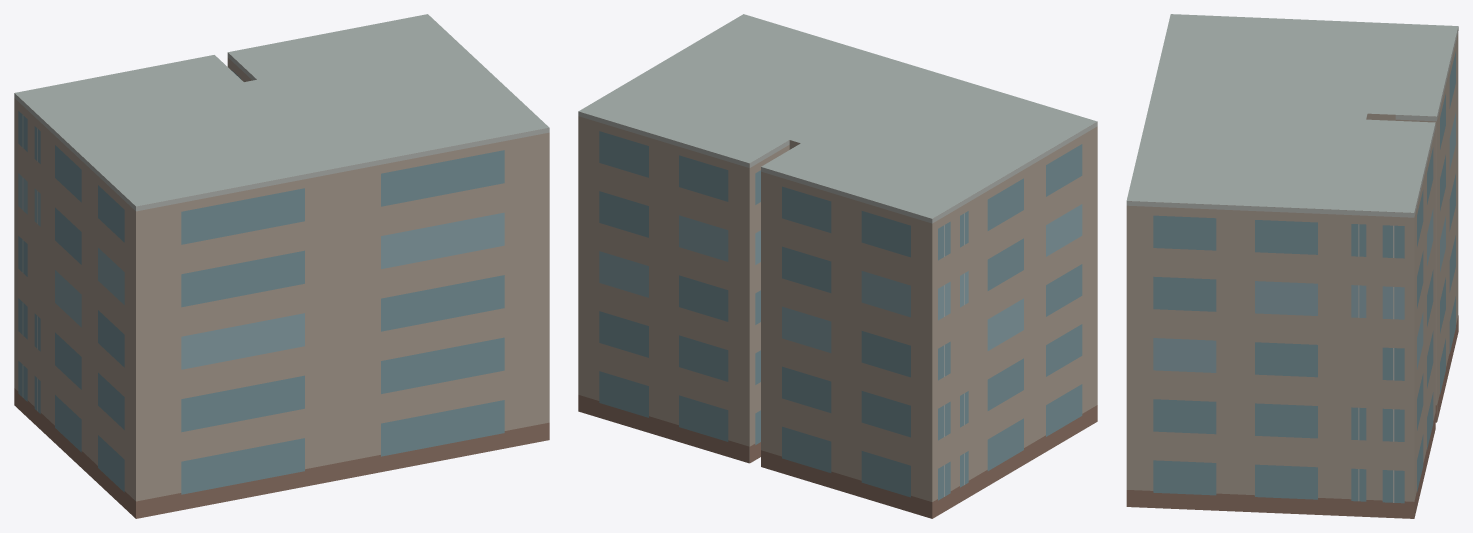
File: survey-upis-32666462.glb
3 renders of one model, left to right at view 1: azimuth 30°, elevation 25°; view 2: azimuth 150°, elevation 25°; view 3: azimuth 270°, elevation 25°, orthographic. The views are drawn at different scales.
Visible parts, largest first — view 1: survey-upis-32666462.tmp; view 2: survey-upis-32666462.tmp; view 3: survey-upis-32666462.tmp.
Boxes of the visible parts, box(x1,y1,x2,y2) form: survey-upis-32666462.tmp: box(14, 14, 549, 518); survey-upis-32666462.tmp: box(578, 14, 1097, 518); survey-upis-32666462.tmp: box(1126, 14, 1458, 518).
Size of the model in its own units: 21.62 by 15.5 by 15.25.
